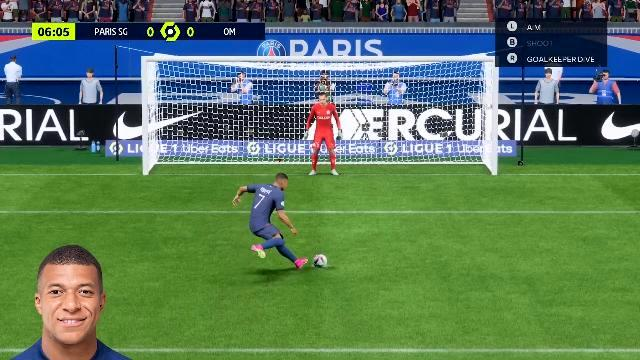bottom-left: (152, 125, 274, 177)
bottom-right: (379, 123, 488, 175)
center-down: (276, 123, 378, 177)
center-up: (276, 66, 378, 122)
circle: (312, 266, 330, 266)
football: (314, 254, 328, 266)
goalkeeper: (300, 92, 340, 180)
player: (230, 172, 310, 278)
top-left: (152, 65, 274, 123)
top-right: (379, 65, 488, 123)
